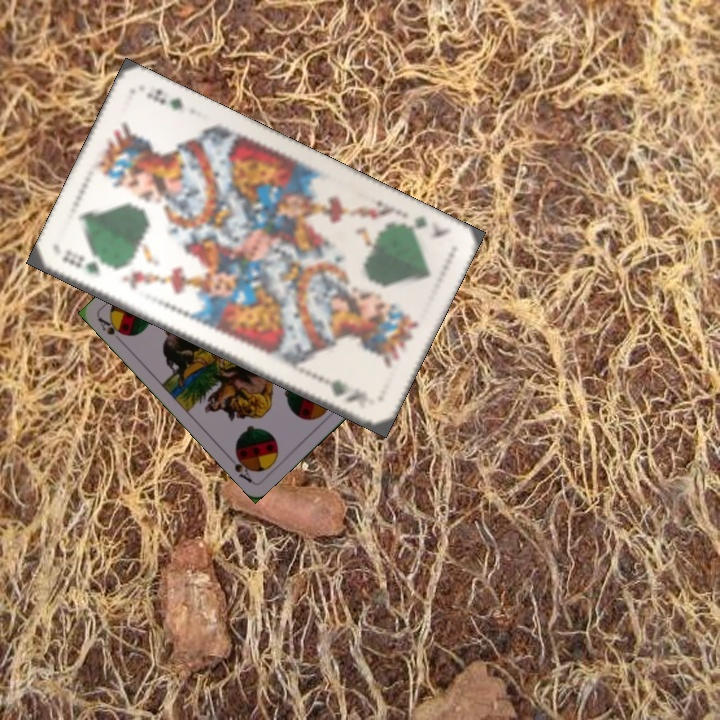GK: (395, 211, 452, 242), (58, 245, 103, 278)
SA: (94, 313, 130, 340)
